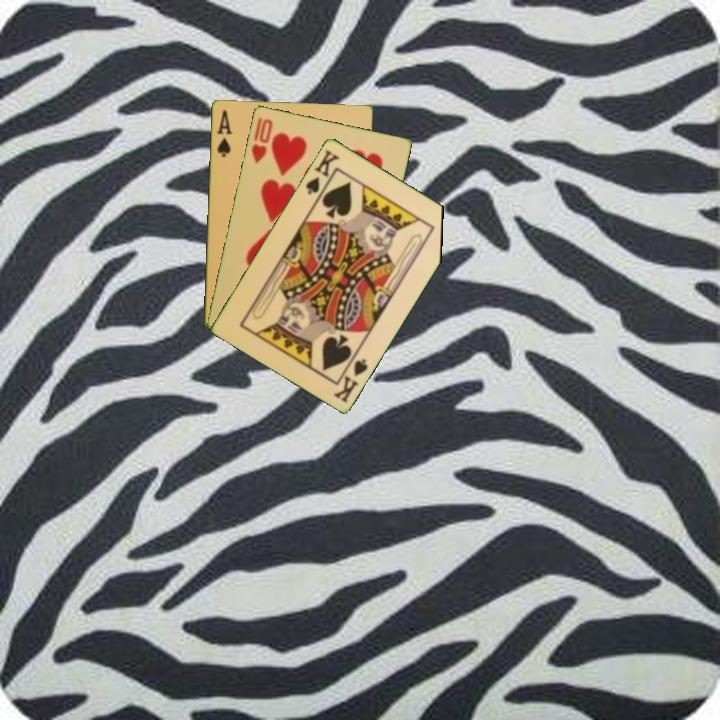10h: (248, 114, 275, 166)
As: (213, 106, 235, 159)
Ks: (330, 349, 371, 405), (302, 146, 343, 201)
